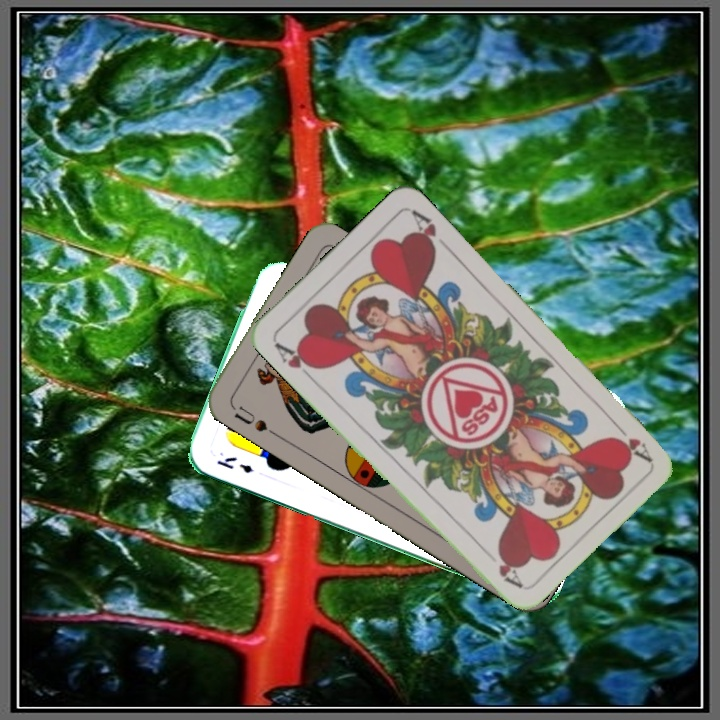EK: (212, 452, 255, 476)
HA: (269, 337, 322, 382), (607, 416, 653, 464)
SU: (227, 401, 280, 439)
